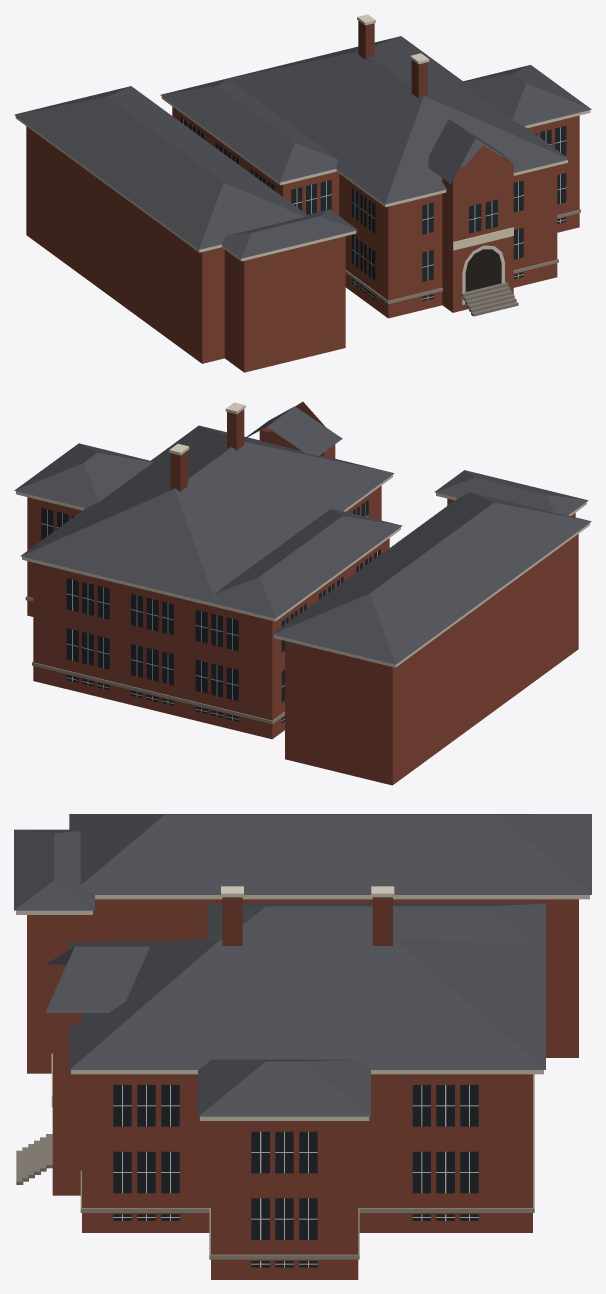
File: james-mitchell-school-1961.glb
3 views of the same model, one above another, from view 1: azimuth 30°, elevation 25°; view 2: azimuth 150°, elevation 25°; view 3: azimuth 270°, elevation 25° (orthographic). The views are drawn at different scales.
Parts seen in each view (by area): view 1: james_slate, james_brick, james_glass, james_trim, james_base, james_dark, james_brick2, james_sash, james_stone, james_cream; view 2: james_slate, james_brick, james_glass, james_trim, james_sash, james_brick2, james_stone; view 3: james_slate, james_brick, james_glass, james_trim, james_stone, james_brick2, james_sash, james_base.
Boxes of the visible parts, x1=… form: james_slate: x1=14, y1=36, x2=591, y2=258; james_brick: x1=26, y1=106, x2=579, y2=372; james_glass: x1=180, y1=117, x2=566, y2=301; james_trim: x1=15, y1=14, x2=590, y2=304; james_base: x1=460, y1=282, x2=518, y2=316; james_dark: x1=465, y1=249, x2=501, y2=291; james_brick2: x1=358, y1=21, x2=427, y2=98; james_sash: x1=183, y1=119, x2=566, y2=299; james_stone: x1=345, y1=209, x2=580, y2=304; james_cream: x1=453, y1=227, x2=513, y2=250; james_slate: x1=14, y1=406, x2=591, y2=664; james_brick: x1=27, y1=401, x2=578, y2=785; james_glass: x1=41, y1=500, x2=380, y2=722; james_trim: x1=16, y1=402, x2=589, y2=667; james_sash: x1=41, y1=502, x2=377, y2=720; james_brick2: x1=170, y1=409, x2=244, y2=491; james_stone: x1=25, y1=596, x2=284, y2=724; james_slate: x1=14, y1=814, x2=591, y2=1116; james_brick: x1=27, y1=899, x2=578, y2=1279; james_glass: x1=113, y1=1085, x2=478, y2=1267; james_trim: x1=16, y1=886, x2=589, y2=1120; james_stone: x1=80, y1=1074, x2=534, y2=1259; james_brick2: x1=222, y1=897, x2=392, y2=945; james_sash: x1=113, y1=1085, x2=478, y2=1267; james_base: x1=16, y1=1134, x2=52, y2=1184.
Bounding box in the file's own units: 38.9 × 17.07 × 31.4.
